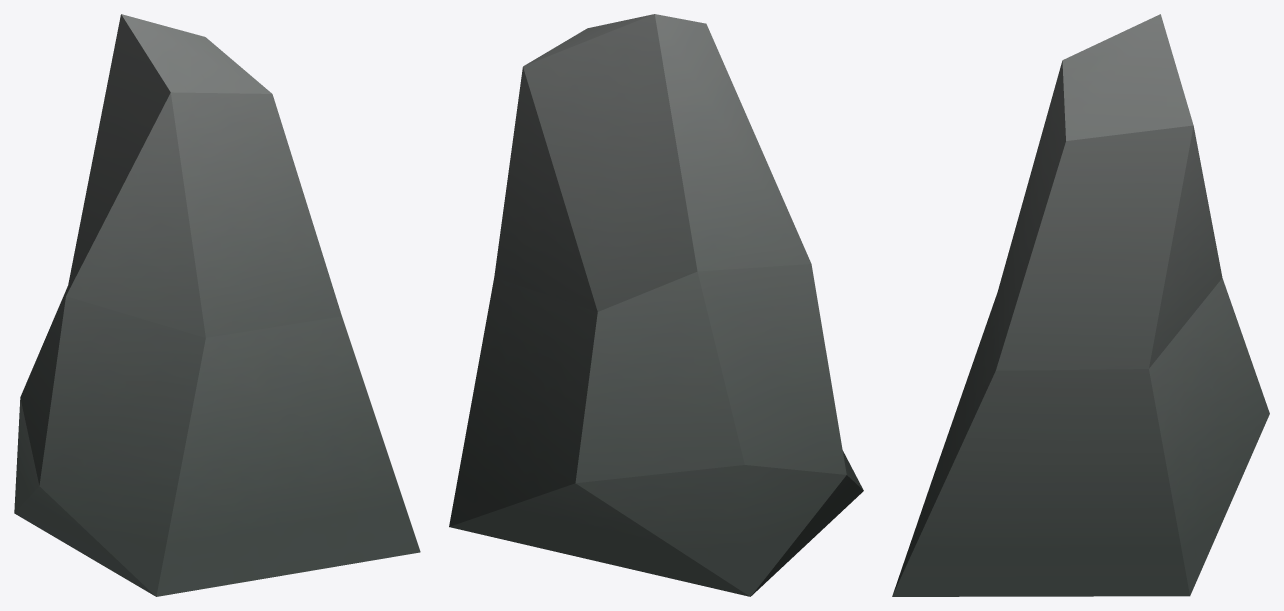
Rendered from Rock_lvl2_01.fbx.
3 renders of one model, left to right at view 1: azimuth 30°, elevation 25°; view 2: azimuth 150°, elevation 25°; view 3: azimuth 270°, elevation 25°, orthographic. The views are drawn at different scales.
Visible parts, largest first — view 1: rock_3; view 2: rock_3; view 3: rock_3.
Part boxes in pixels (<box>): rock_3: <box>14,14,420,596</box>; rock_3: <box>449,14,863,596</box>; rock_3: <box>892,14,1269,596</box>.
Size of the model in its own units: 1.15 by 1.81 by 1.24.
